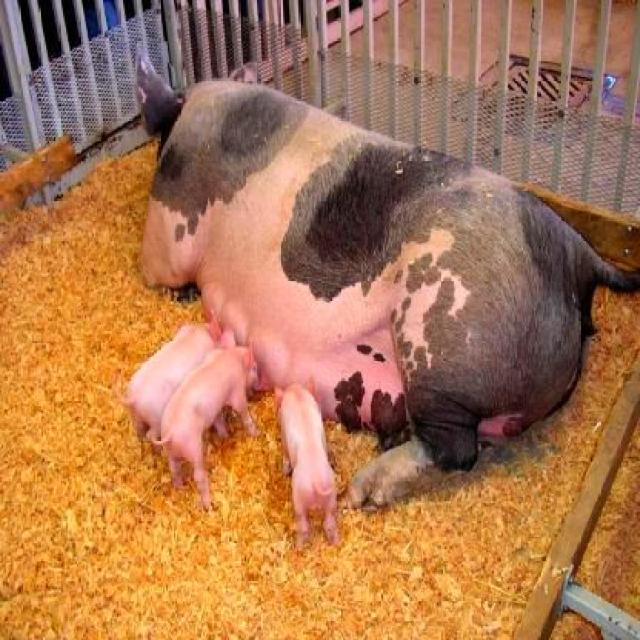Boar: (134, 40, 640, 557)
